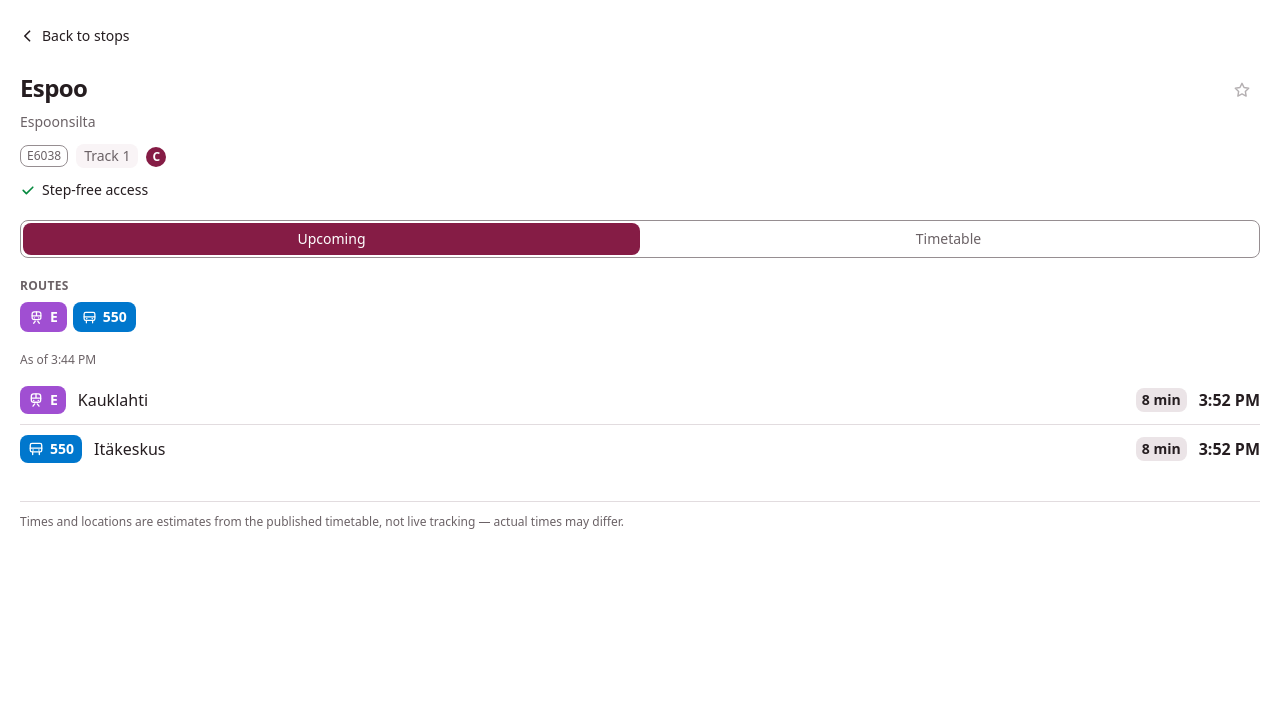
Scenario: StopInspector › is back to resting once every line has been chosen
Expected: the text "Itäkeskus" is shown, [94, 437, 166, 461]
Expected: the button "Show all routes" is not shown
Click the checkbox labelled "E" at coordinates (43, 317), box [20, 302, 67, 332]
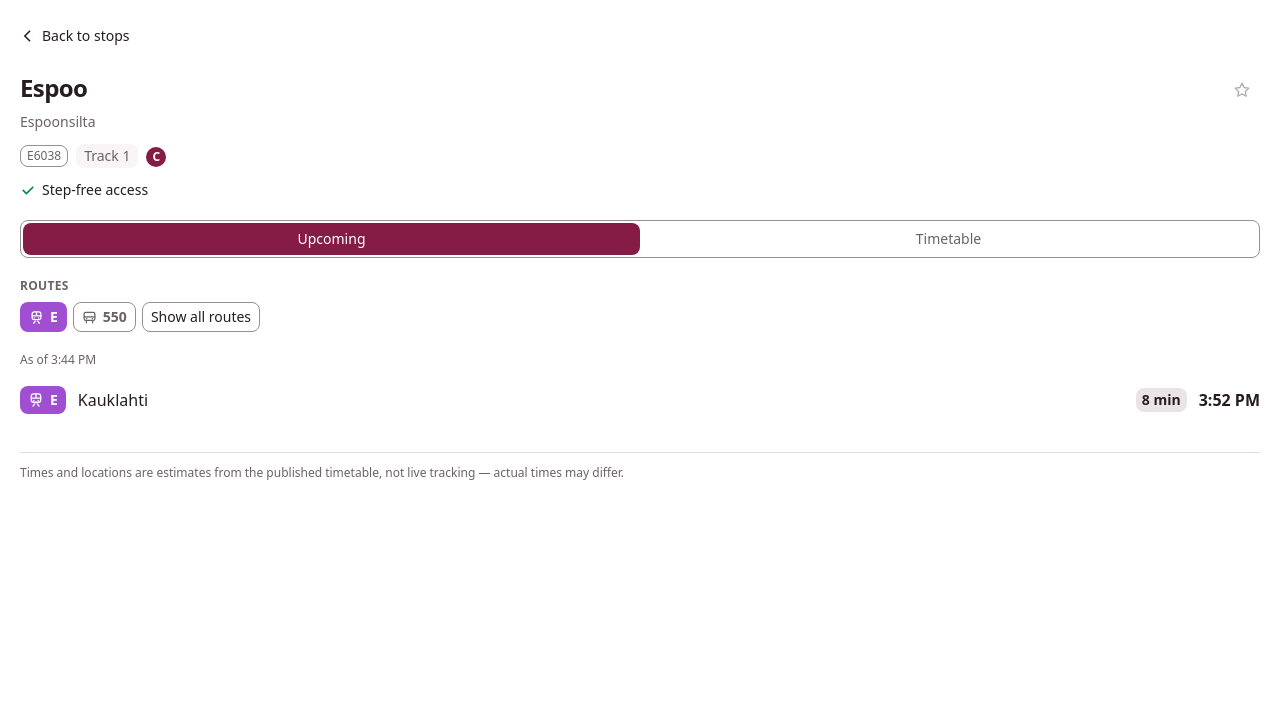
Expected: the button "Show all routes" is shown, [142, 302, 260, 332]
Click the checkbox labelled "550" at coordinates (104, 317), box [73, 302, 136, 332]
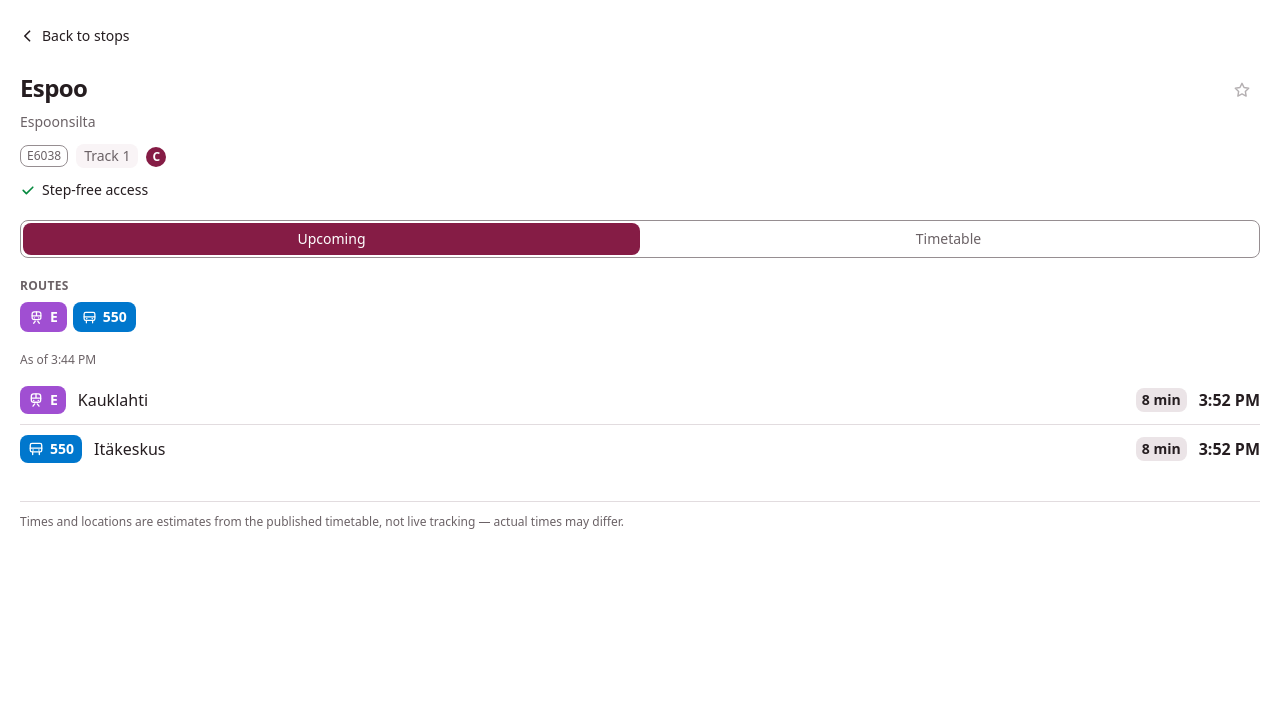
Expected: the button "Show all routes" is gone
